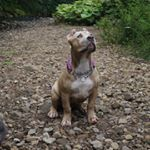puppy: (46, 25, 106, 130)
